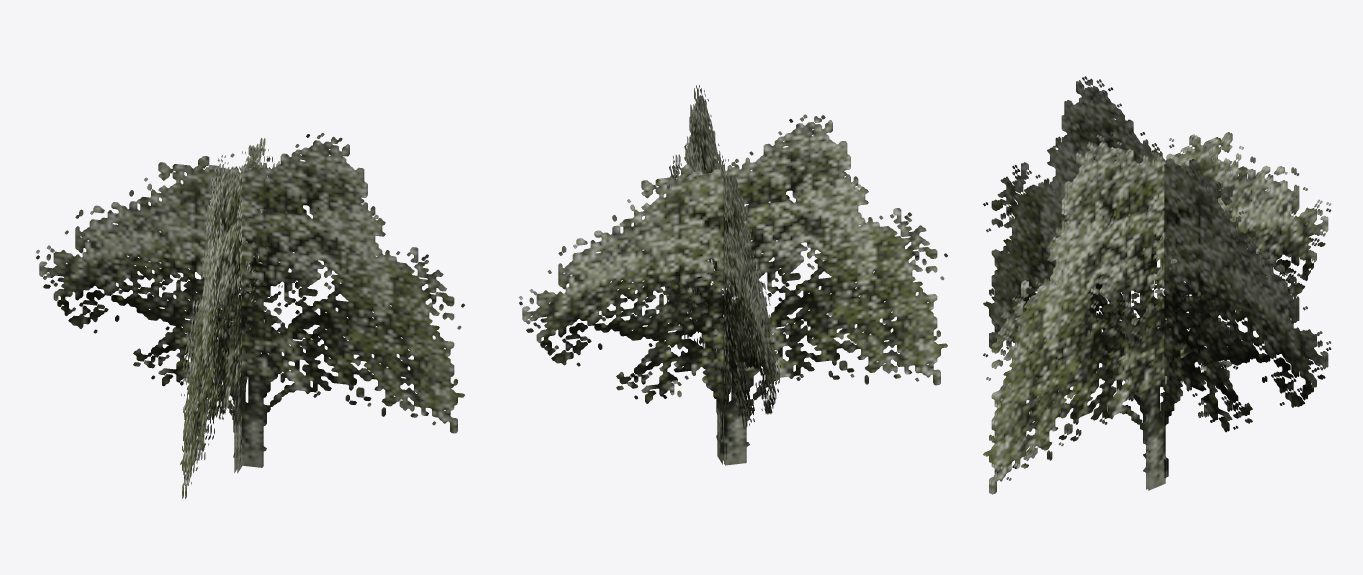
The model's file is tree089.fbx.
The picture shows the model from 3 angles, left to right: view 1: azimuth 30°, elevation 25°; view 2: azimuth 150°, elevation 25°; view 3: azimuth 270°, elevation 25°; orthographic projection. The views are drawn at different scales.
Parts seen in each view (by area): view 1: tree089; view 2: tree089; view 3: tree089.
Boxes of the visible parts, x1,y1,x2,y2 form: tree089: (36, 133, 464, 498); tree089: (519, 85, 947, 465); tree089: (983, 76, 1331, 494).
Bounding box in the file's own units: 278 × 335 × 278.
1 material, 1 textured.
